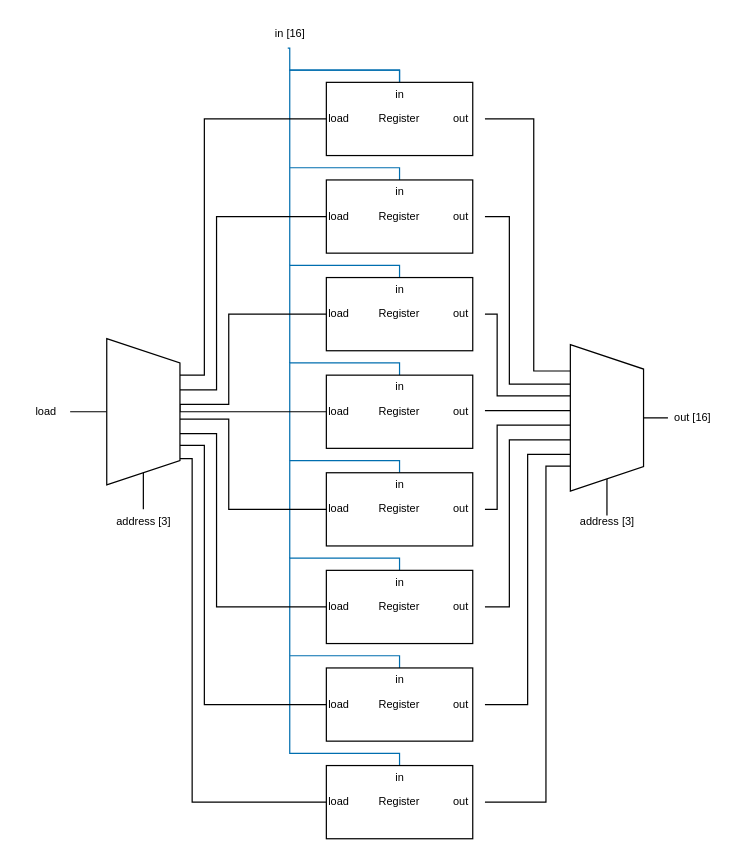
This 743x860 diagram has some shape labels left out. Each missing label, with the centre of its shape:
"DMux" goes at (143,411).
"Mux" goes at (606,417).
